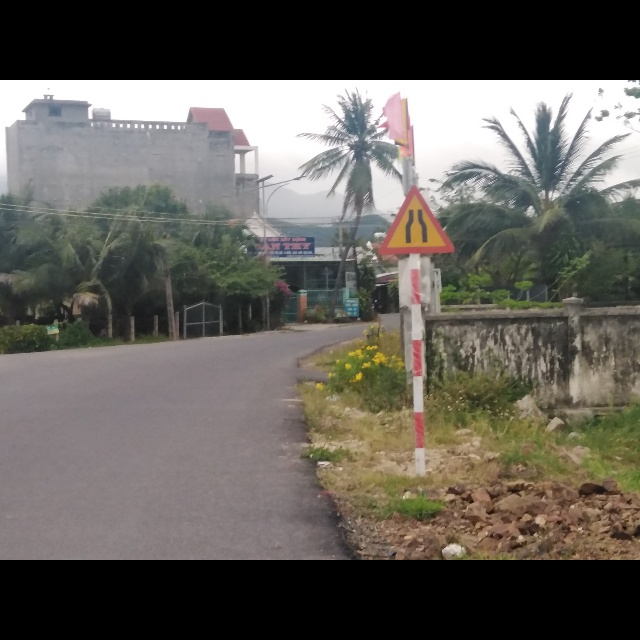Đường bị hẹp cả hai bên: (378, 184, 457, 255)
